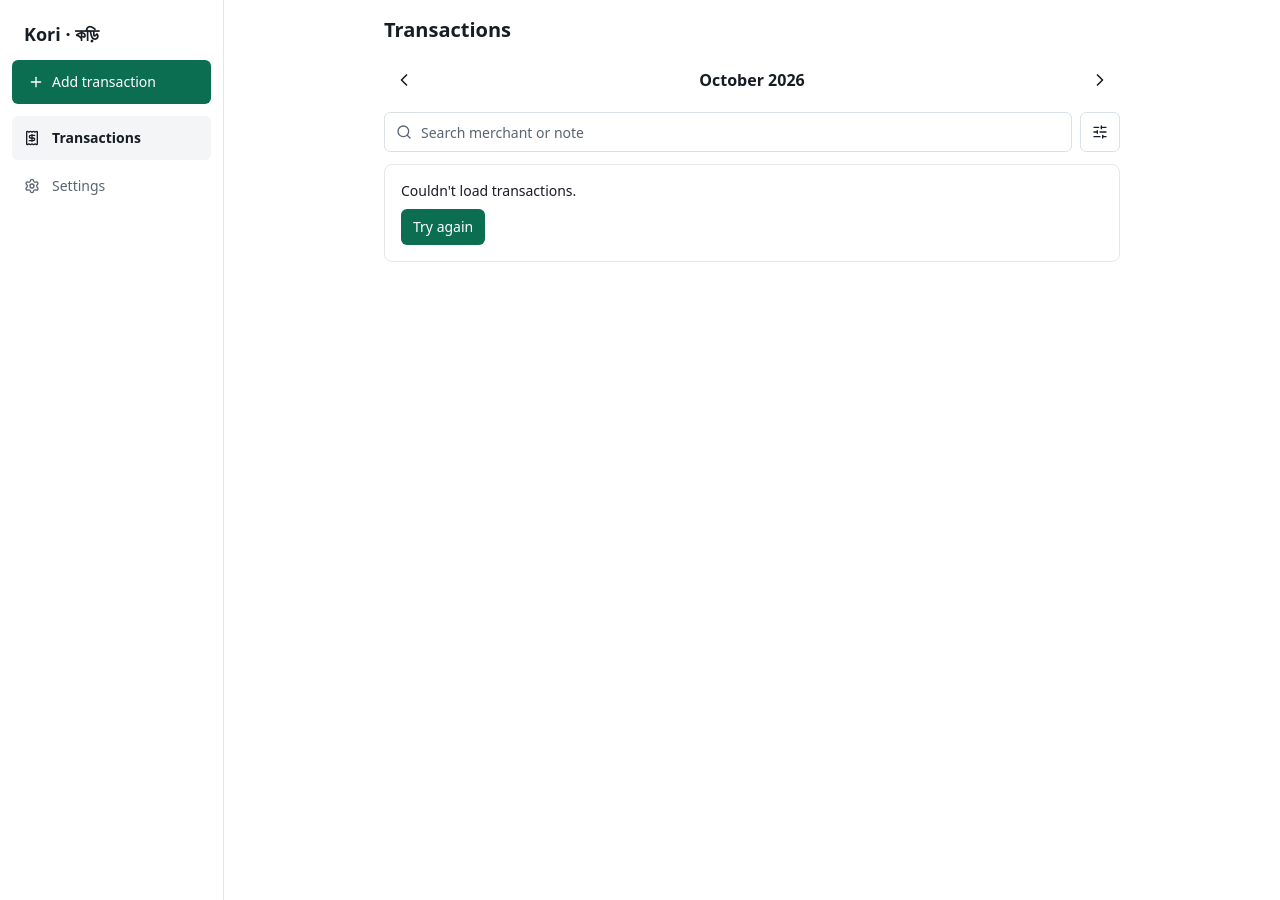
route guard and logout › opens the add sheet from the bottom nav
Expected: the heading "Transactions" is shown, [384, 16, 511, 44]
Click the button "Add transaction": point(112, 82) [12, 60, 211, 104]
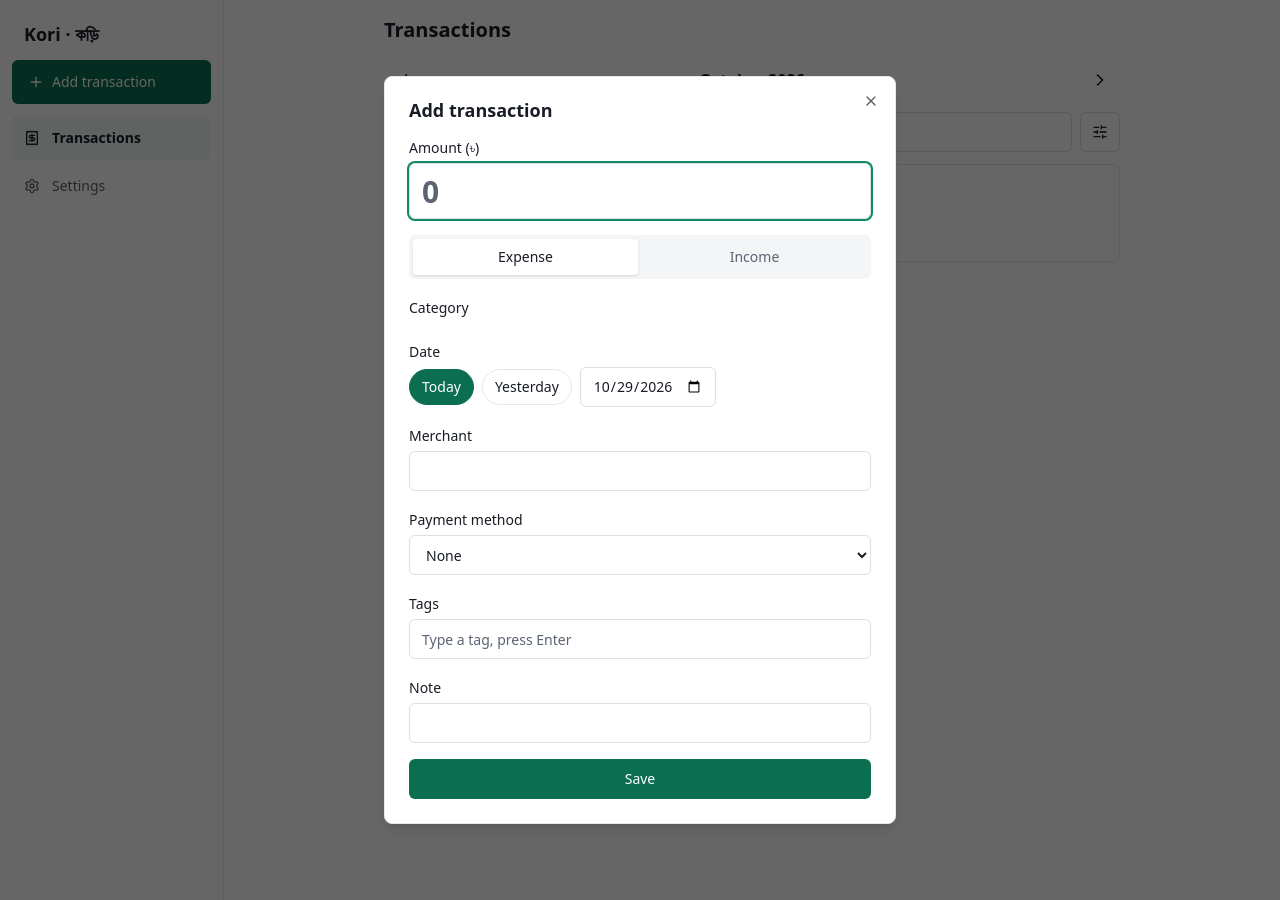
Expected: the dialog shows "Add transaction", [409, 98, 553, 122]
